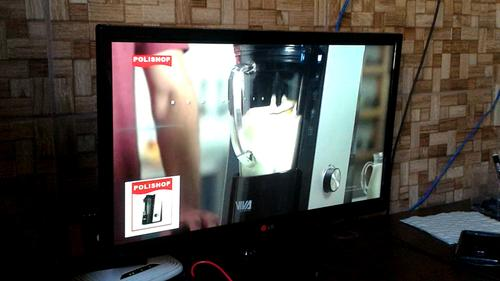Polishop #1: (124, 174, 180, 237)
